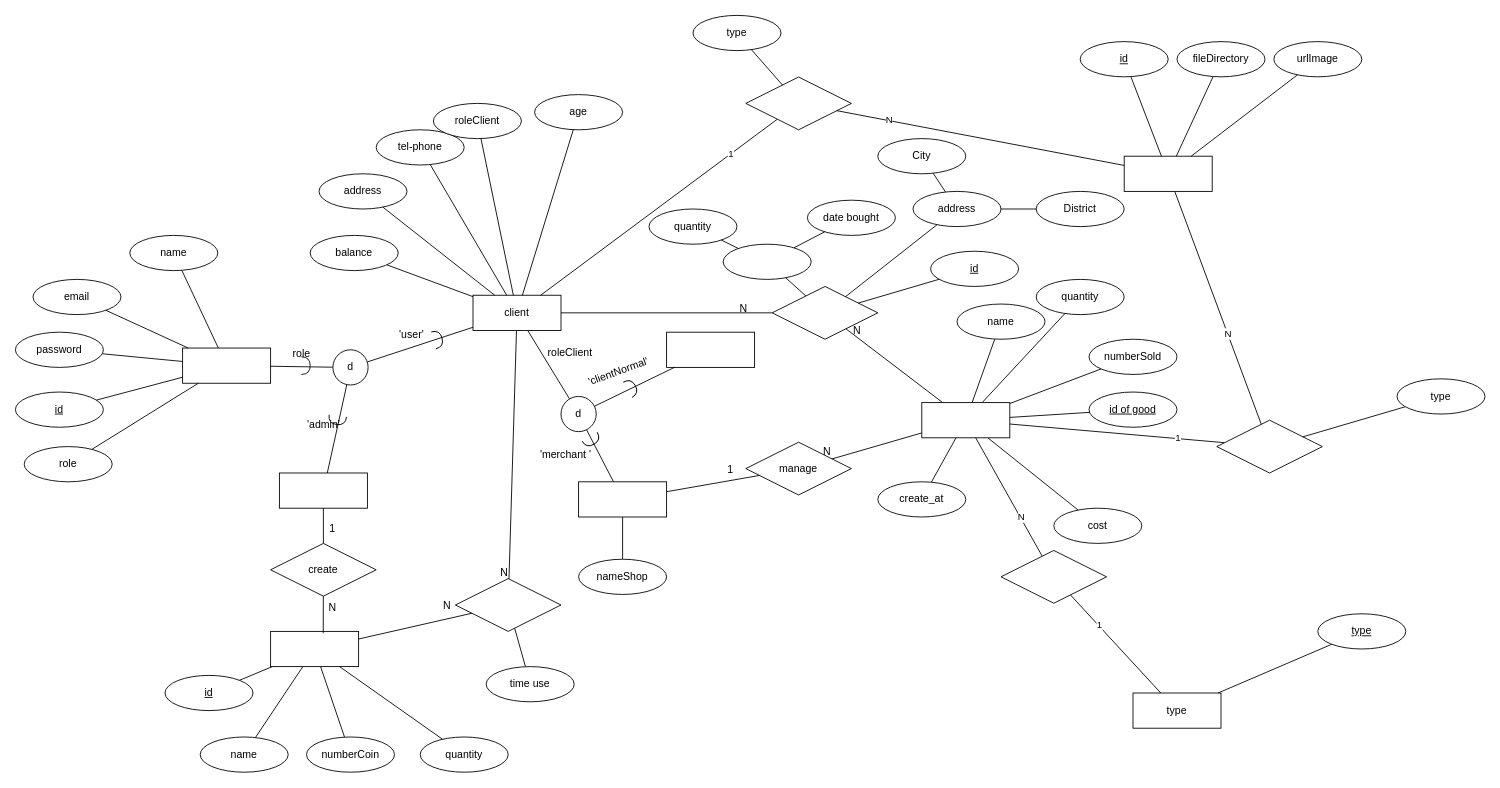
Image size: 1500x788. Some labels were removed from this diagram. Here are the shapes that lost their labels. From the top down, the centre of each, then its label:
At (x=798, y=103): "imageclient".
At (x=1167, y=173): "image".
At (x=766, y=261): "bought".
At (x=824, y=312): "order".
At (x=226, y=365): "user".
At (x=710, y=349): "client Normal".
At (x=965, y=420): "goods".
At (x=1269, y=446): "imagegood".
At (x=323, y=490): "admin".
At (x=622, y=499): "merchant".
At (x=1053, y=576): "has".
At (x=508, y=604): "use".
At (x=314, y=649): "gift-code".
